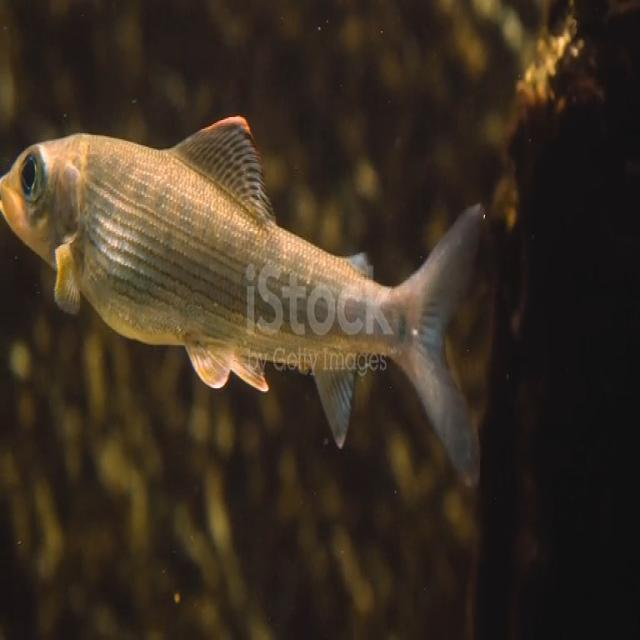fish: (0, 95, 491, 495)
